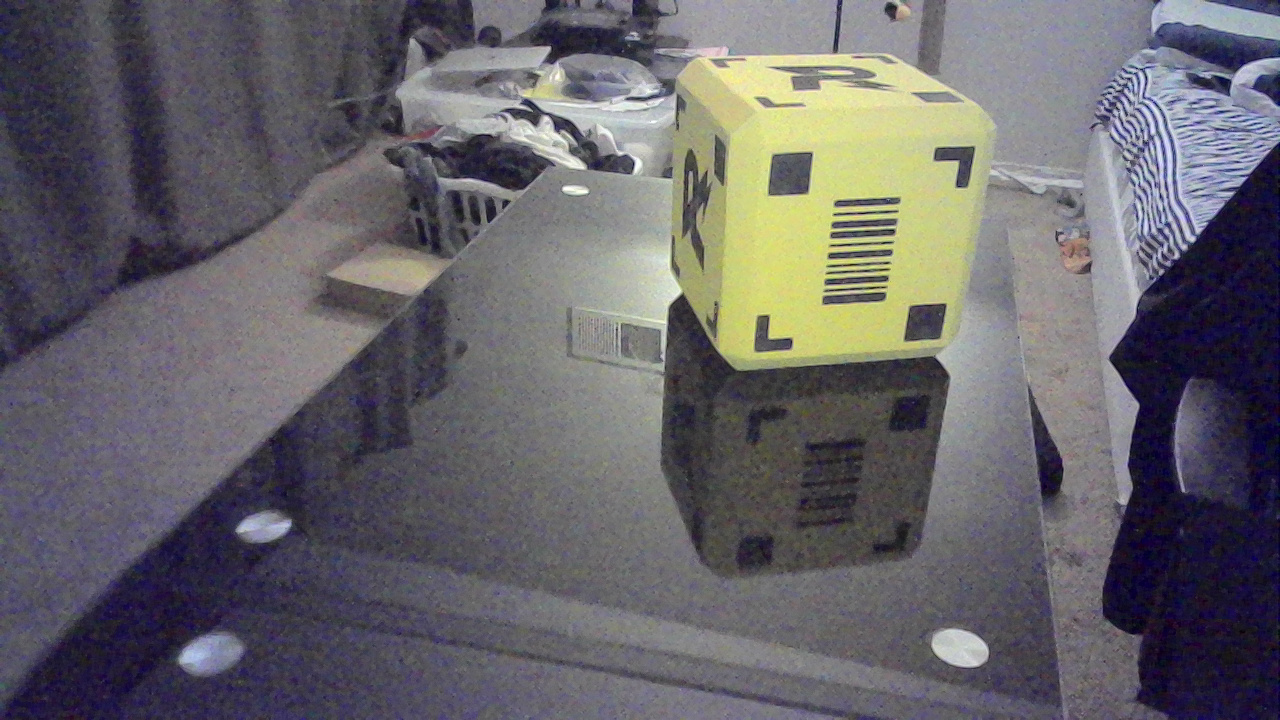Barcode: (830, 192, 902, 313)
R: (682, 142, 723, 276), (772, 63, 896, 101)
